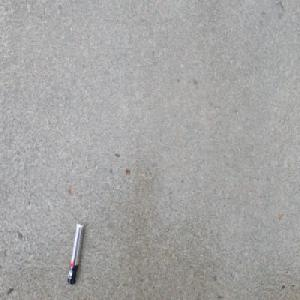Battery: (66, 218, 84, 285)
